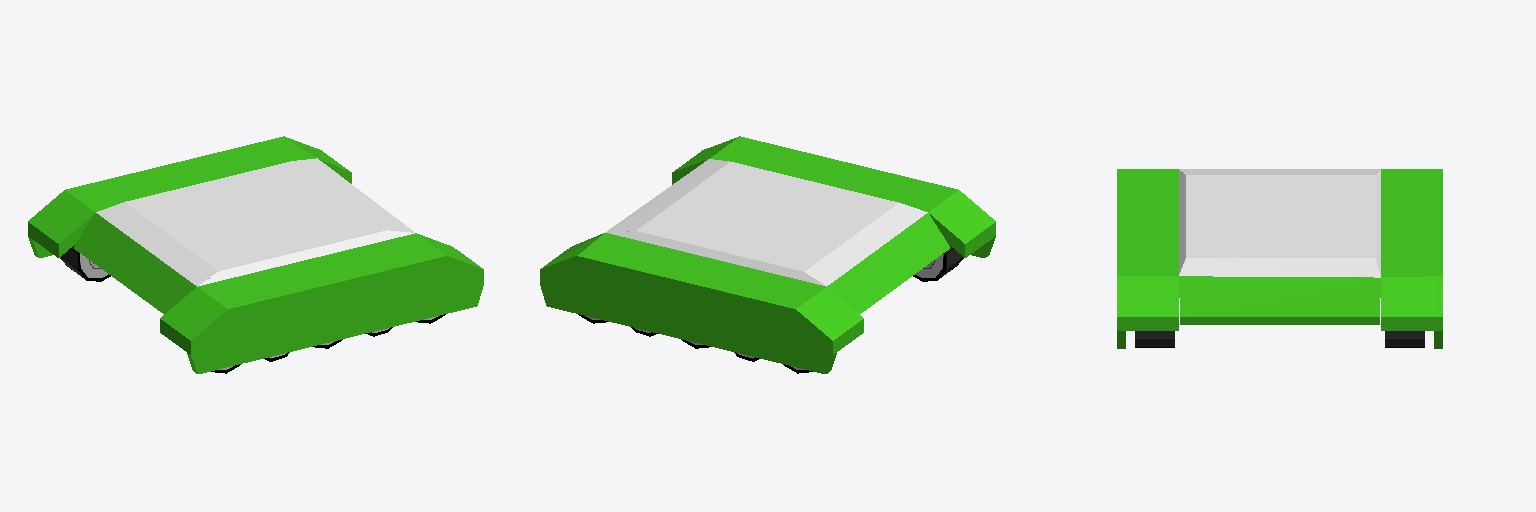
The picture shows the model from 3 angles: view 1: azimuth 30°, elevation 25°; view 2: azimuth 150°, elevation 25°; view 3: azimuth 270°, elevation 25°; orthographic projection.
Visible parts, largest first — view 1: 円柱.001_円柱.002; view 2: 円柱.001_円柱.002; view 3: 円柱.001_円柱.002.
Part boxes in pixels (bbox=[...]): 円柱.001_円柱.002: bbox=[28, 136, 483, 373]; 円柱.001_円柱.002: bbox=[540, 136, 995, 373]; 円柱.001_円柱.002: bbox=[1117, 169, 1442, 348].
Size of the model in its own units: 1.98 by 0.5108 by 1.91.
1 materials, 1 textured.